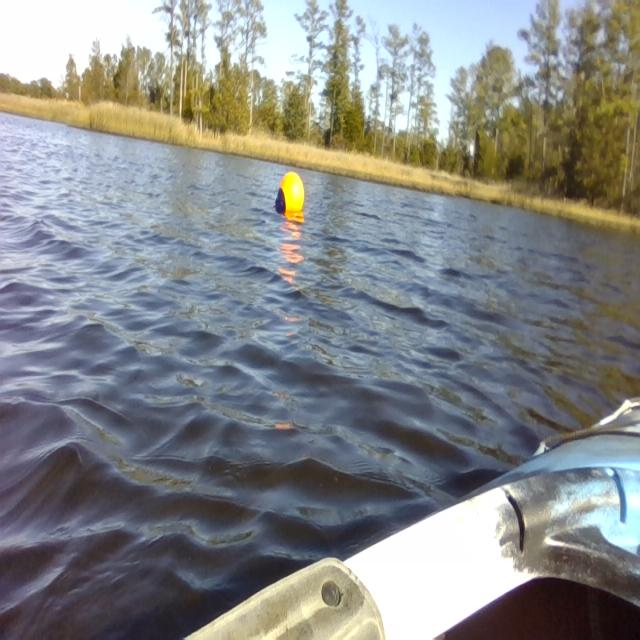Buoy: (270, 169, 312, 225)
